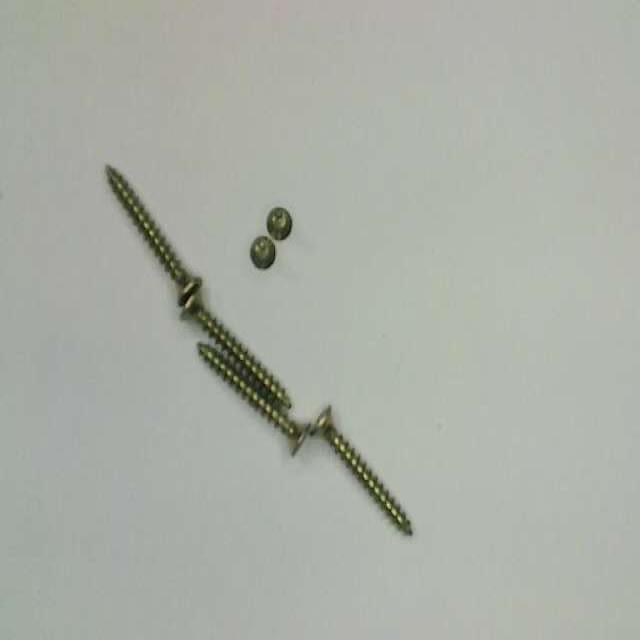Parafuso: (179, 284, 291, 410), (107, 165, 203, 305), (311, 406, 413, 537), (198, 342, 310, 453), (250, 236, 275, 268), (267, 207, 292, 239)
